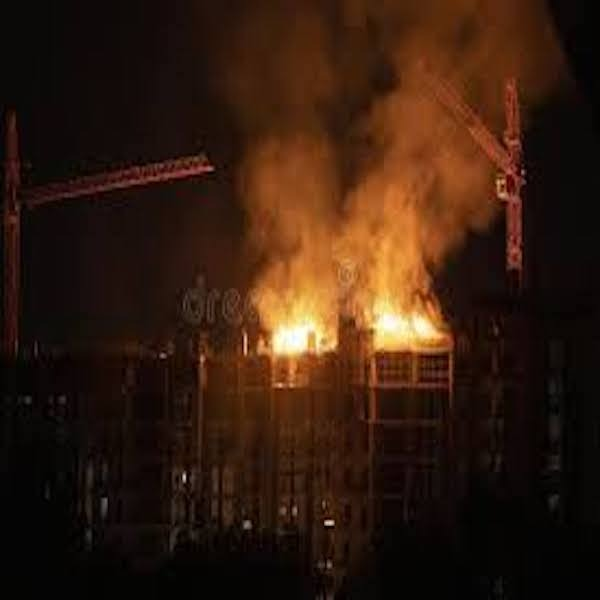fire: (247, 144, 454, 359)
